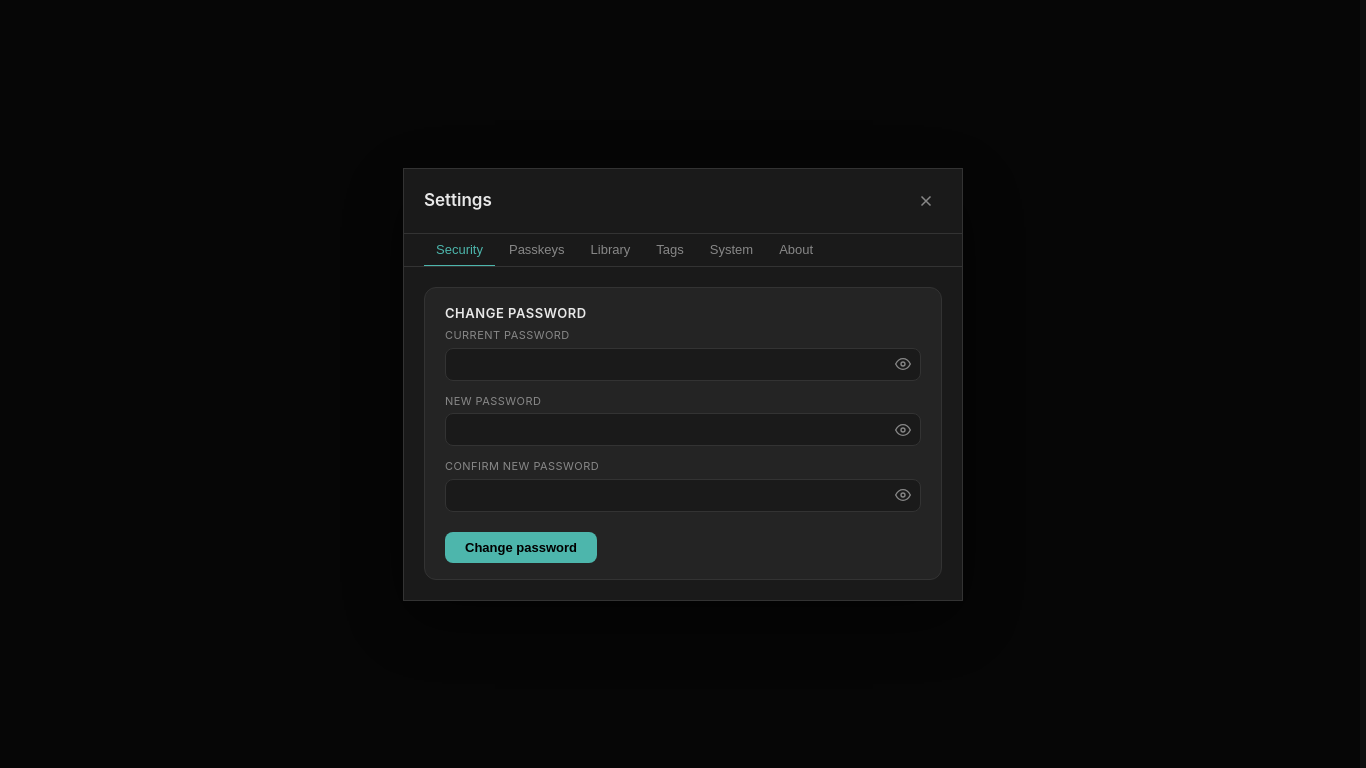
it: SettingsModal — about tab › loads and renders build info on tab activation
The width and height of the screenshot is (1366, 768).
Click the tab "About" at x=796, y=250, box [767,234,825,266]
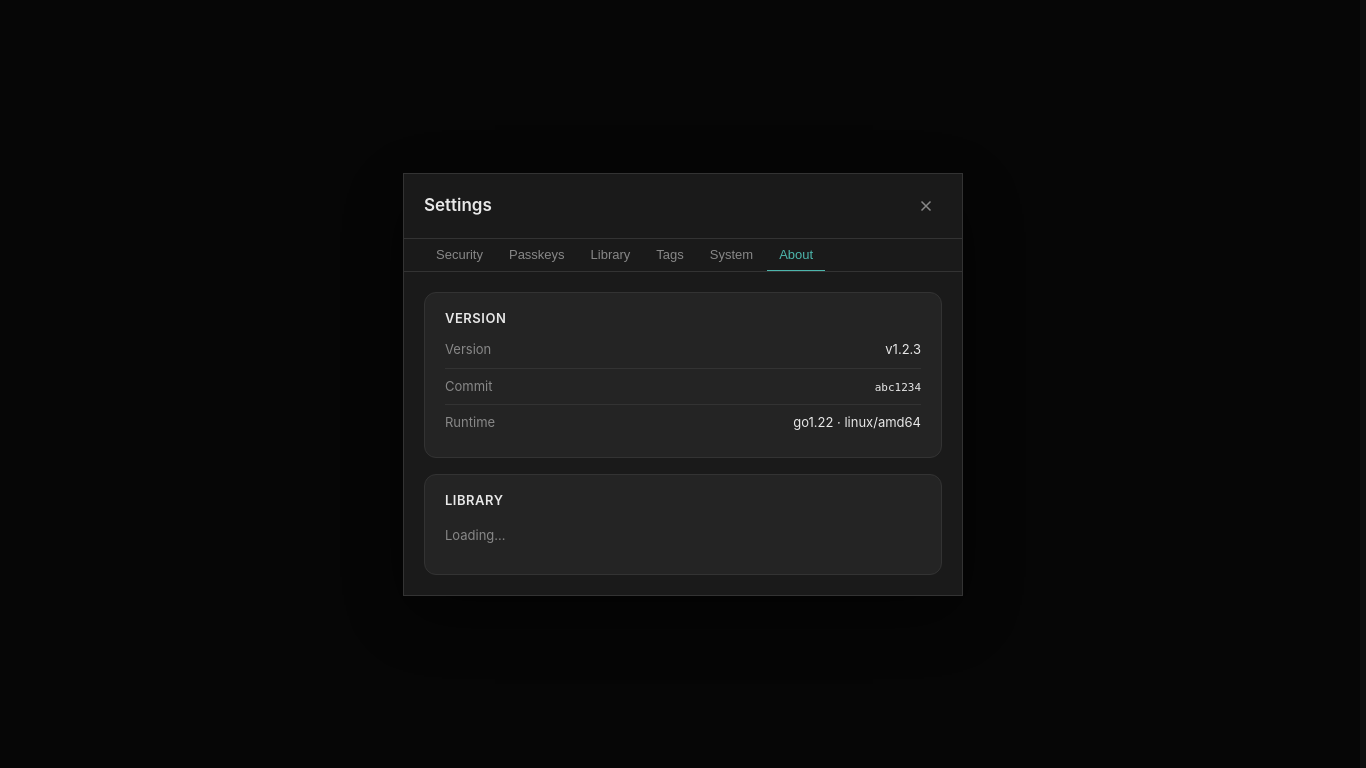
expect the text "v1.2.3" is shown: met, box [885,340,921,360]
expect the text "abc1234" is shown: met, box [875,380,921,396]
expect the text "go1.22 · linux/amd64" is shown: met, box [793,413,921,432]
